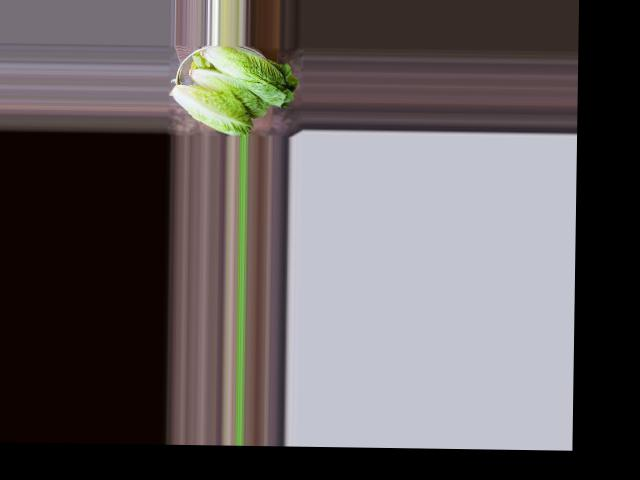lettuce: (192, 44, 295, 109)
